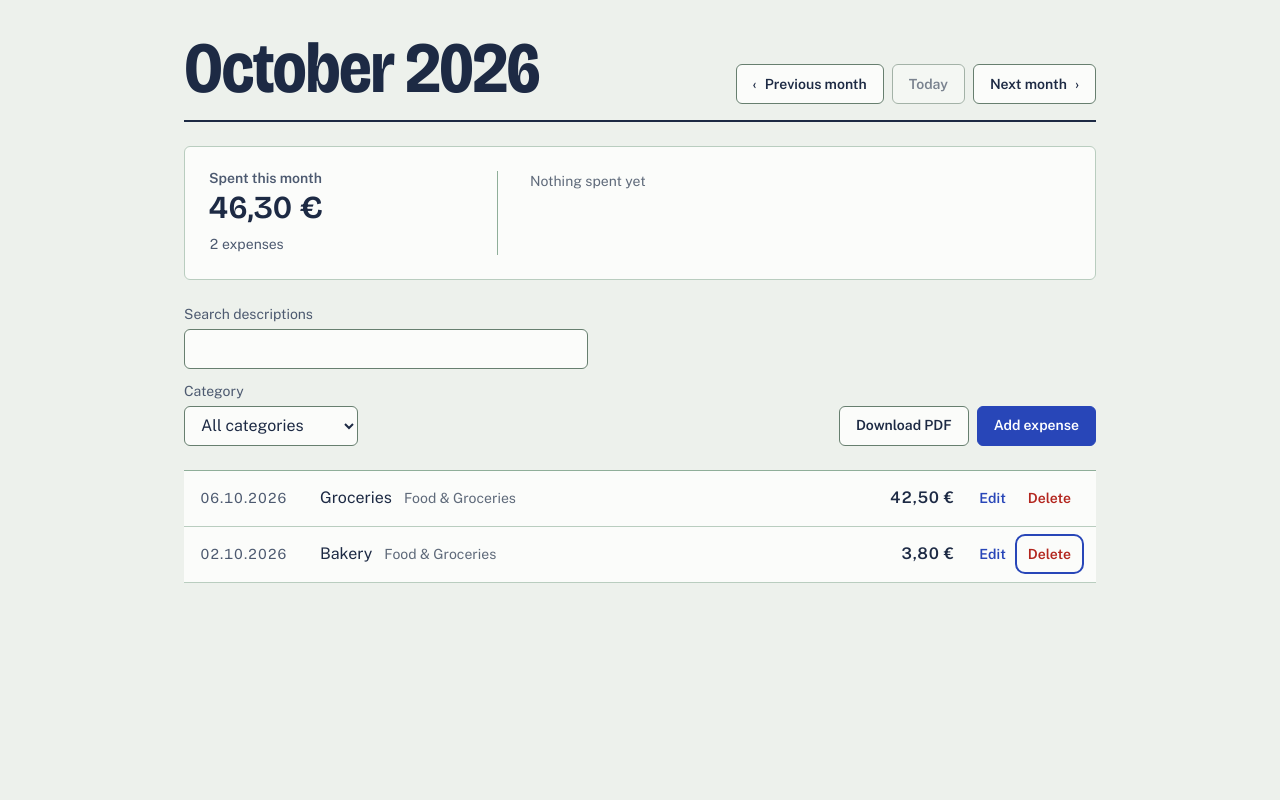
Scenario: returns focus to the row's Delete button when the dialog is closed with Escape
The width and height of the screenshot is (1280, 800).
Expected: the text "Bakery" is shown, top-left (320, 542), bottom-right (372, 566)
Step 1. Click the button with aria-label "Delete Bakery" → point(1049, 554), box top-left (1019, 538), bottom-right (1080, 570)
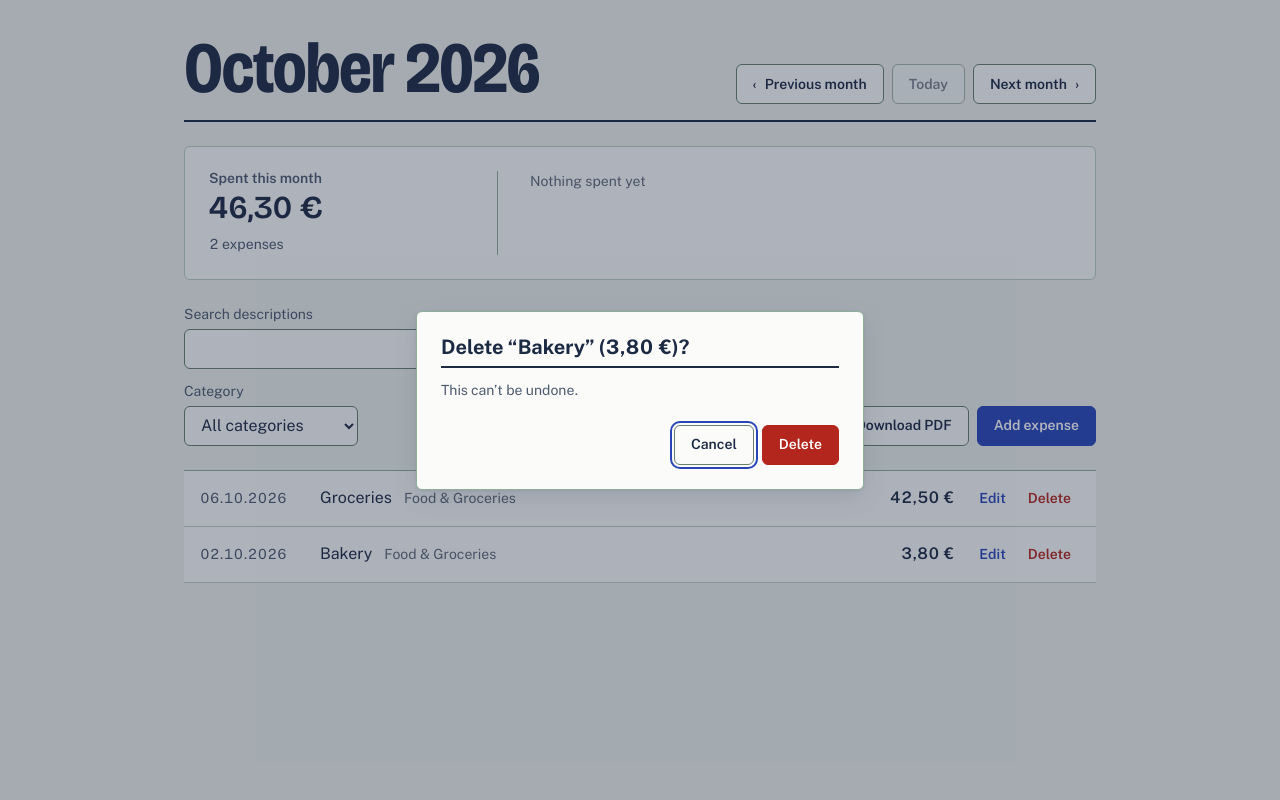
Step 2. Press Escape in the dialog, box top-left (416, 310), bottom-right (864, 490)
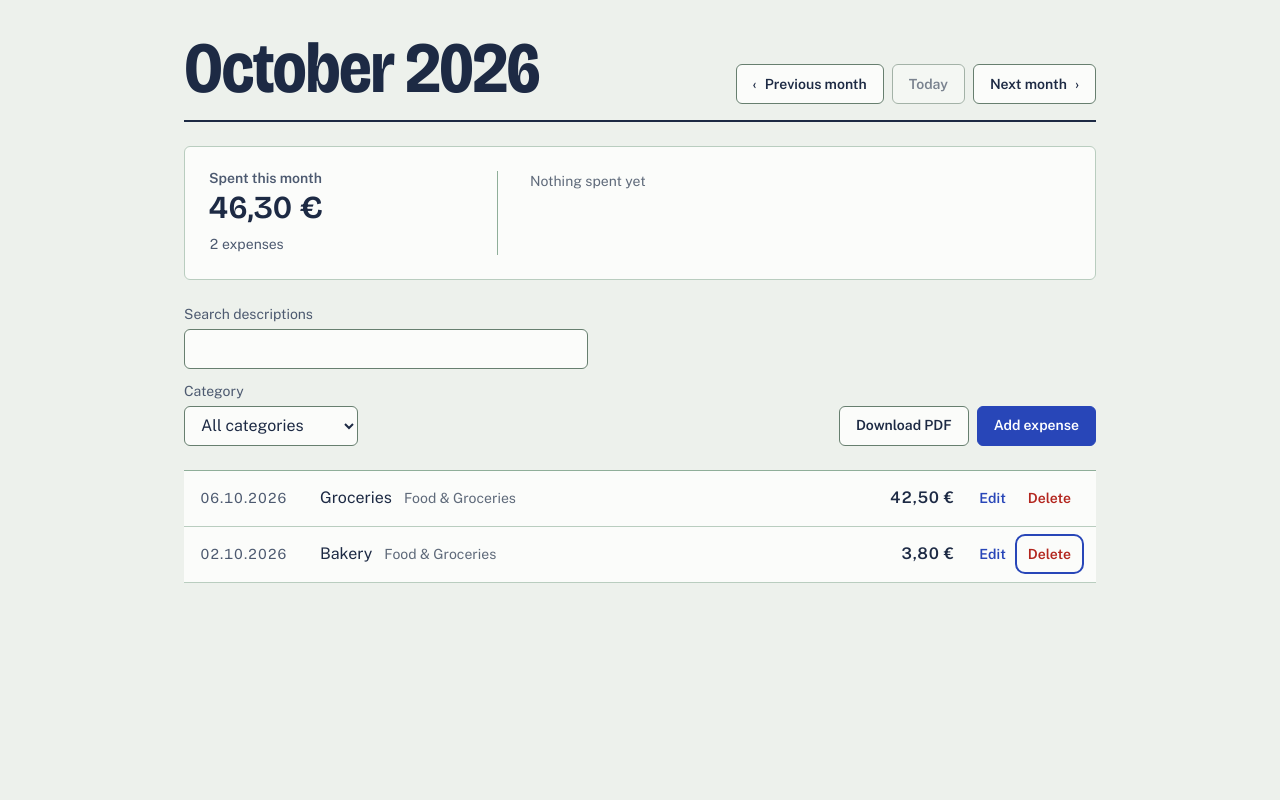
Result: the dialog is gone
